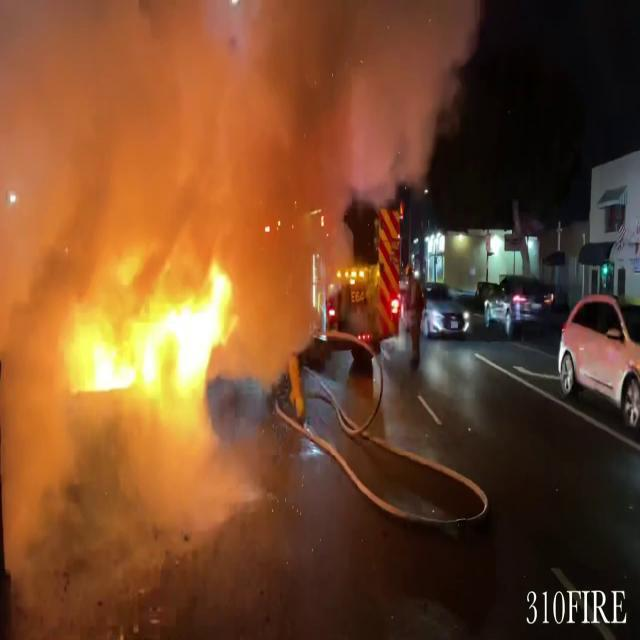Fire: (71, 258, 241, 418)
Smoke: (2, 1, 477, 316), (0, 3, 103, 600)
